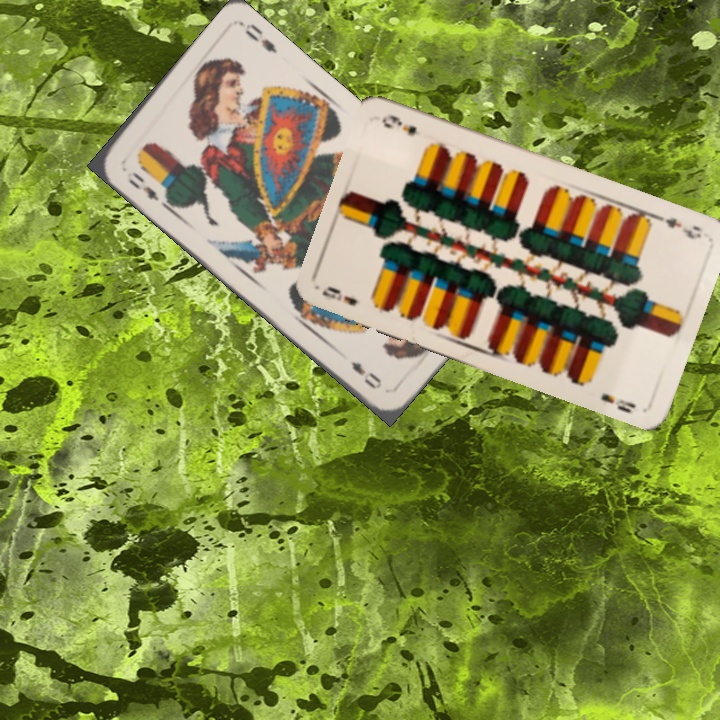E9: (651, 211, 704, 242), (318, 282, 360, 309)
EO: (122, 167, 162, 204)
